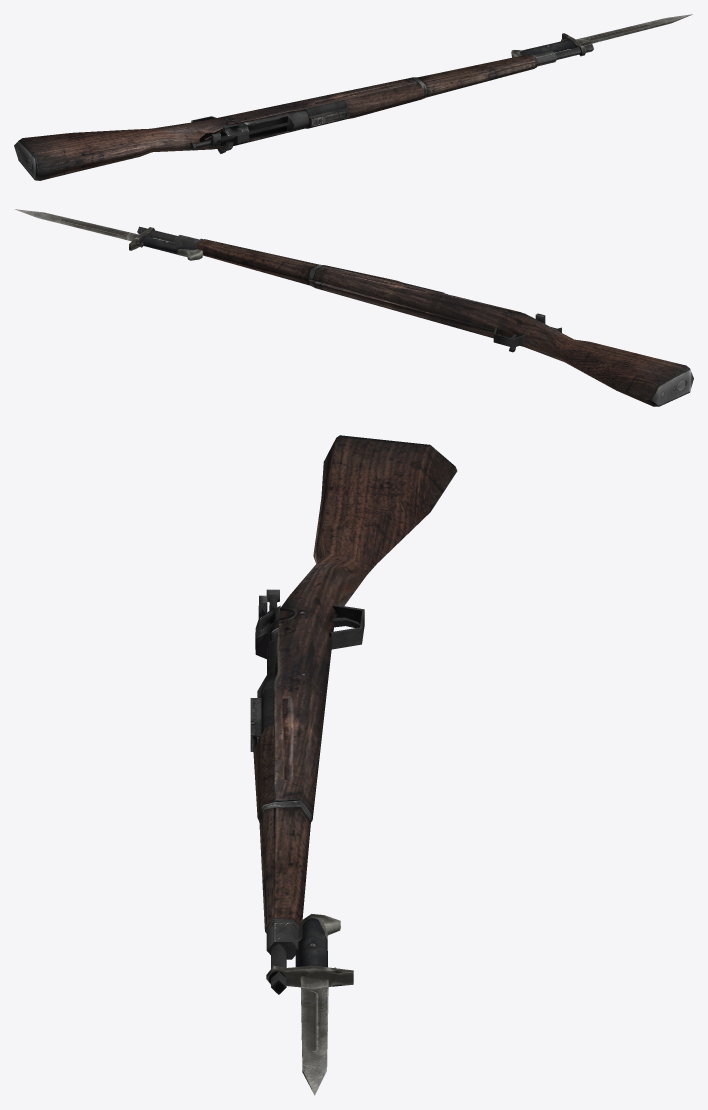
File: weapon_usa_springfield_rifle_bayonet_LOD11.obj
3 renders of one model, top to bottom at view 1: azimuth 30°, elevation 25°; view 2: azimuth 150°, elevation 25°; view 3: azimuth 270°, elevation 25°, orthographic. The views are drawn at different scales.
Parts seen in each view (by area): view 1: TomGroup_0, TomGroup_1; view 2: TomGroup_0, TomGroup_1; view 3: TomGroup_0, TomGroup_1.
Part boxes in pixels (x1,y1,x2,y2): TomGroup_0: [14, 44, 593, 180]; TomGroup_1: [511, 14, 692, 57]; TomGroup_0: [137, 226, 693, 406]; TomGroup_1: [15, 209, 202, 260]; TomGroup_0: [250, 435, 457, 994]; TomGroup_1: [266, 914, 353, 1095].
Bounding box in the file's own units: 153 × 7.79 × 20.93.
2 materials, 2 textured.
